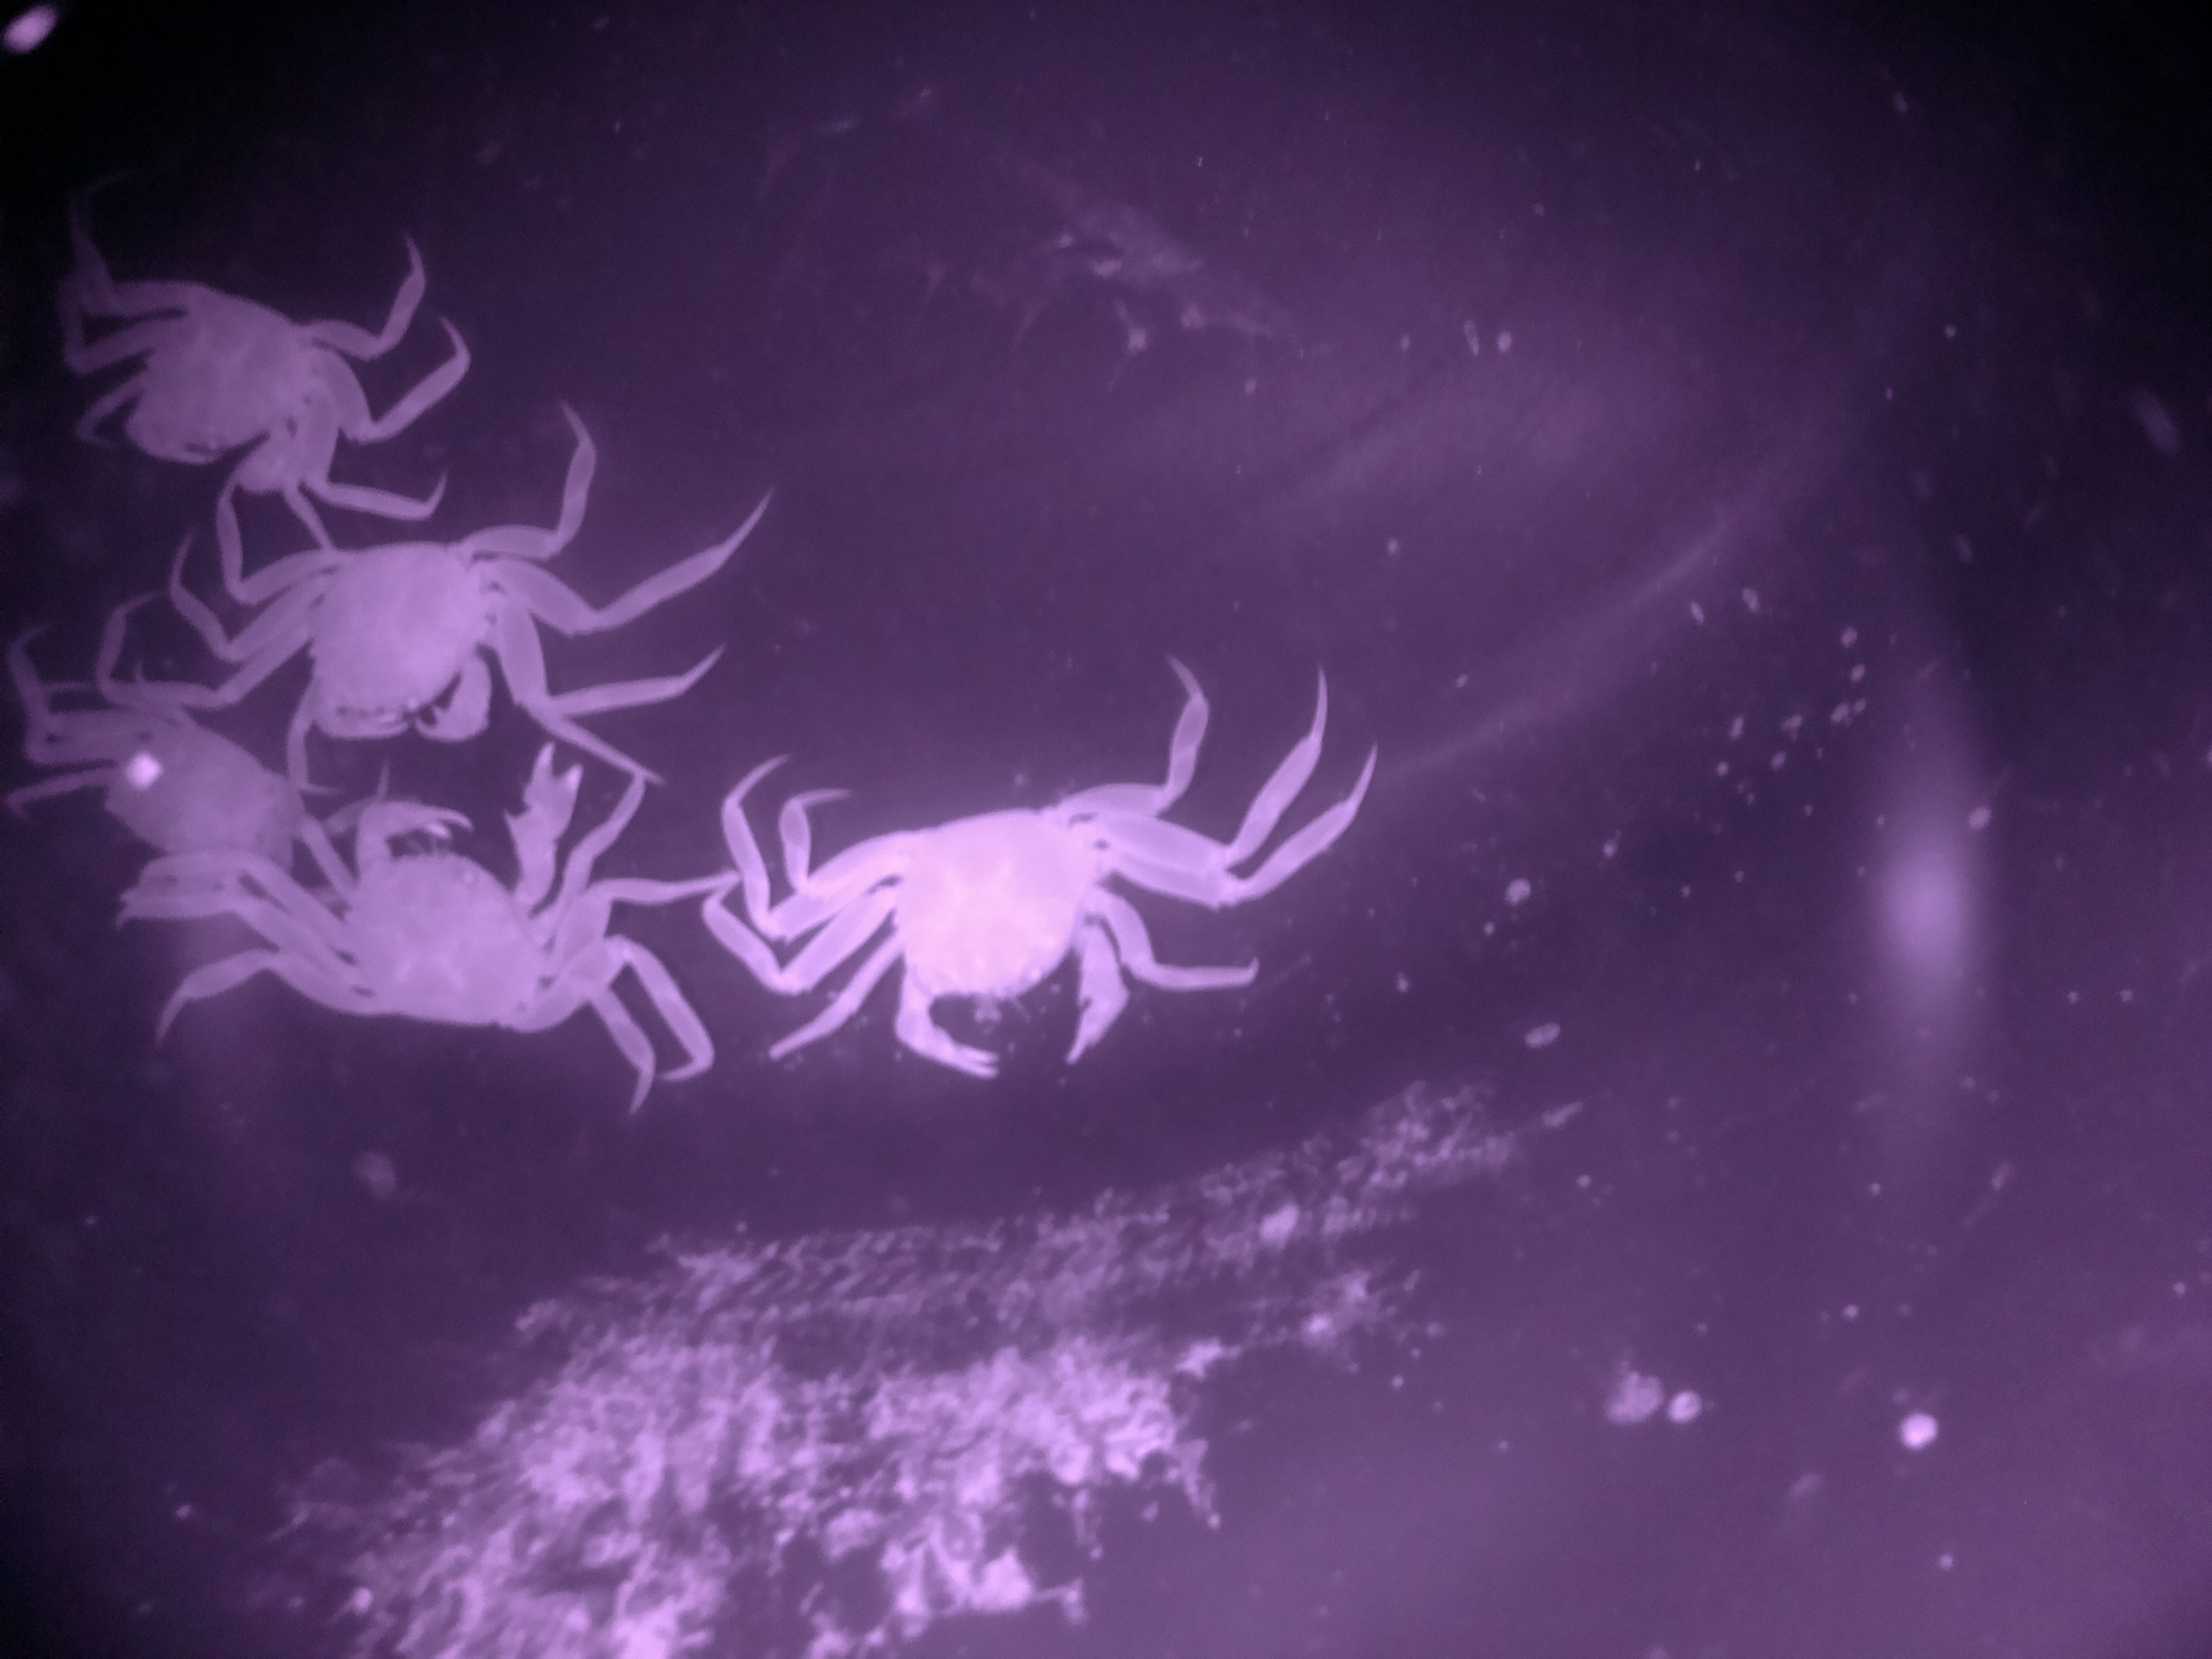Crab: (833, 770, 1169, 1107), (270, 737, 620, 1054), (101, 240, 371, 525), (266, 484, 547, 753)
